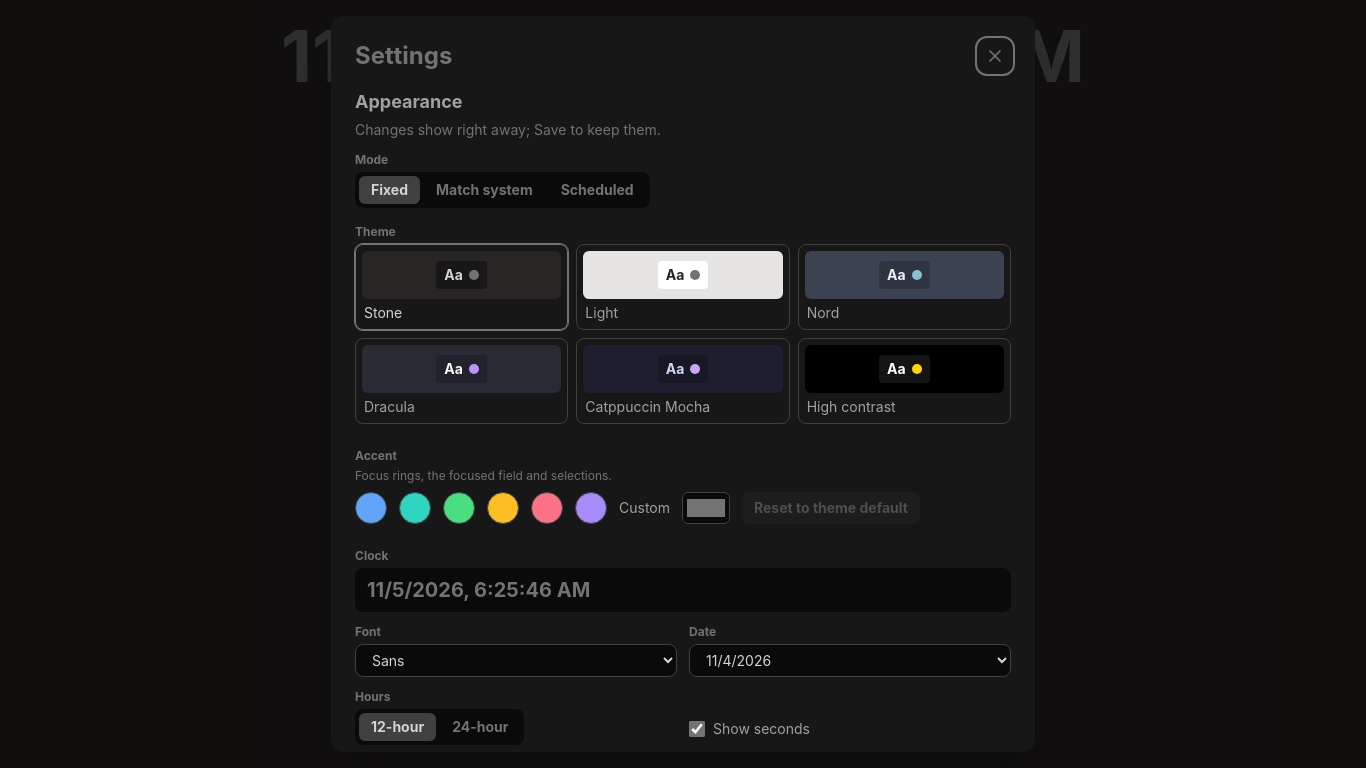
it: AppearanceSettings › restores defaults as a draft
The image size is (1366, 768).
Later steps or results of the test are not shown.
Expected: the 1st radio button labelled "Nord" is shown, [798, 244, 1011, 330]
Click the 1st radio button labelled "Dracula": (462, 381) [355, 338, 568, 424]
(page scrolled)
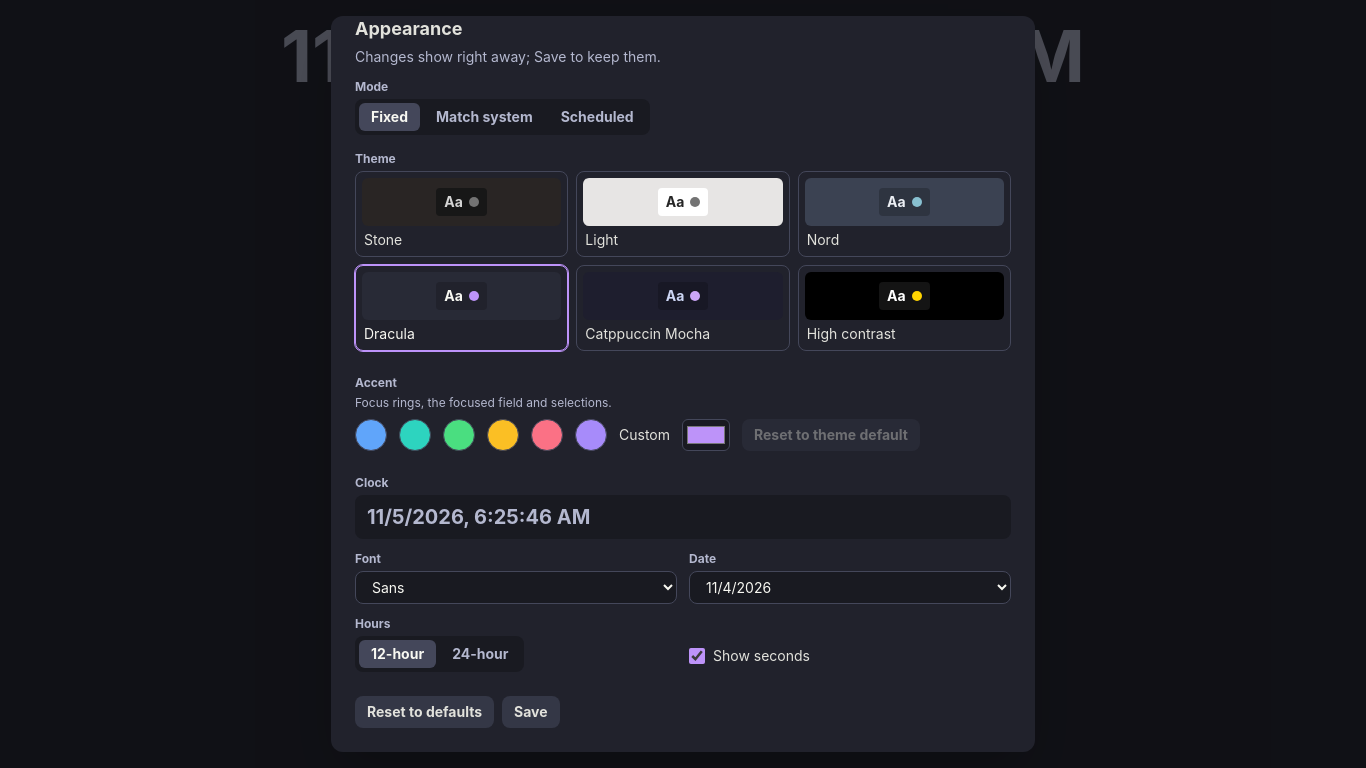
Click the button "Save": (531, 712) [502, 696, 560, 728]
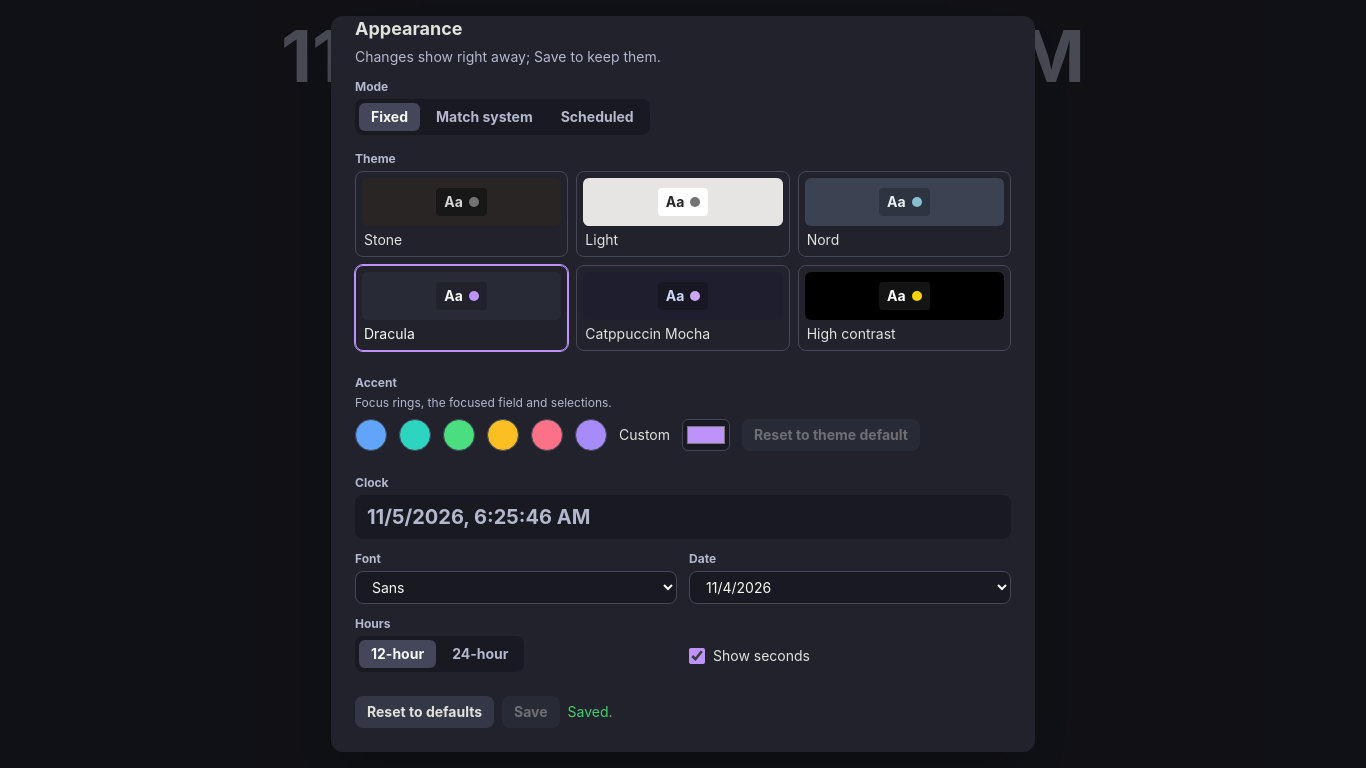
Expected: the text "Saved." is shown, [568, 702, 613, 722]
